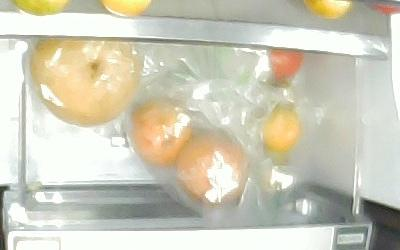peach_vinyl: (177, 129, 250, 205), (130, 98, 193, 167)
pear_vinyl: (30, 37, 144, 125)
tangerine_vinyl: (261, 105, 300, 150)
tomato_vinyl: (268, 49, 302, 85)
